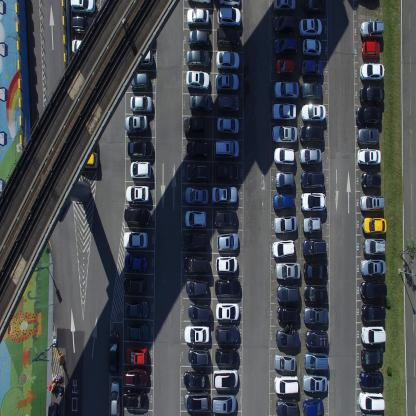car: (70, 14, 96, 37), (215, 49, 240, 72), (300, 192, 326, 214), (211, 392, 237, 414), (182, 114, 208, 136), (213, 138, 240, 159), (108, 330, 120, 376), (275, 283, 300, 305), (184, 390, 209, 412), (273, 36, 298, 58), (124, 205, 150, 226), (213, 368, 239, 389), (359, 390, 385, 411), (355, 106, 382, 126), (271, 238, 295, 260), (216, 27, 240, 49), (217, 6, 241, 28), (304, 327, 328, 349), (360, 18, 384, 40), (186, 160, 211, 181), (123, 367, 148, 388), (185, 69, 210, 90), (299, 124, 324, 145), (274, 80, 299, 101), (361, 302, 386, 323), (184, 324, 210, 344), (214, 277, 240, 297), (214, 72, 240, 92), (303, 350, 329, 370), (360, 324, 386, 344), (359, 85, 385, 105), (359, 62, 385, 82), (211, 184, 238, 203), (360, 280, 387, 299), (273, 14, 296, 36), (214, 160, 238, 181), (74, 150, 98, 171), (124, 113, 148, 134), (276, 328, 300, 349), (360, 346, 384, 367), (184, 184, 209, 204), (215, 301, 240, 321), (302, 305, 327, 325), (127, 139, 153, 158), (359, 194, 385, 213), (126, 344, 148, 366), (300, 80, 323, 101), (273, 215, 297, 235), (186, 138, 210, 158), (184, 231, 208, 251), (214, 207, 238, 227), (124, 253, 148, 273), (124, 299, 148, 319), (215, 346, 239, 366), (215, 324, 239, 344), (188, 302, 212, 322), (189, 93, 213, 113), (186, 48, 210, 68), (186, 7, 210, 27), (298, 16, 322, 36), (300, 58, 324, 78), (303, 260, 327, 280), (302, 236, 326, 256), (303, 284, 327, 304), (359, 369, 383, 389), (300, 171, 325, 190), (184, 255, 209, 274), (183, 370, 208, 389), (301, 103, 326, 122), (272, 124, 297, 143), (302, 373, 327, 392), (362, 216, 387, 235), (356, 147, 381, 166), (122, 231, 148, 249), (272, 192, 295, 212), (215, 254, 238, 274), (216, 232, 239, 252), (130, 48, 153, 68), (187, 346, 210, 366), (217, 94, 240, 114), (273, 146, 296, 166), (276, 305, 299, 325), (125, 184, 149, 203), (123, 389, 147, 408), (216, 116, 240, 135), (272, 102, 296, 121), (275, 262, 300, 280), (274, 375, 299, 393), (360, 259, 386, 276), (361, 170, 382, 191), (184, 209, 206, 229), (123, 276, 145, 296), (130, 93, 153, 112), (126, 322, 149, 341), (363, 237, 386, 256), (356, 127, 379, 146), (185, 278, 209, 296), (275, 397, 299, 415), (275, 58, 296, 78), (130, 160, 151, 180), (109, 380, 121, 415), (274, 171, 296, 190), (188, 29, 210, 48), (274, 352, 296, 371), (70, 38, 93, 56), (302, 397, 324, 415), (131, 70, 150, 90), (302, 38, 321, 58), (361, 40, 380, 60), (301, 215, 322, 233), (299, 147, 321, 164), (69, 0, 95, 14), (303, 0, 327, 15), (272, 0, 297, 14), (47, 400, 60, 415), (186, 0, 211, 7), (217, 0, 241, 7), (359, 410, 383, 415), (127, 411, 150, 415)
